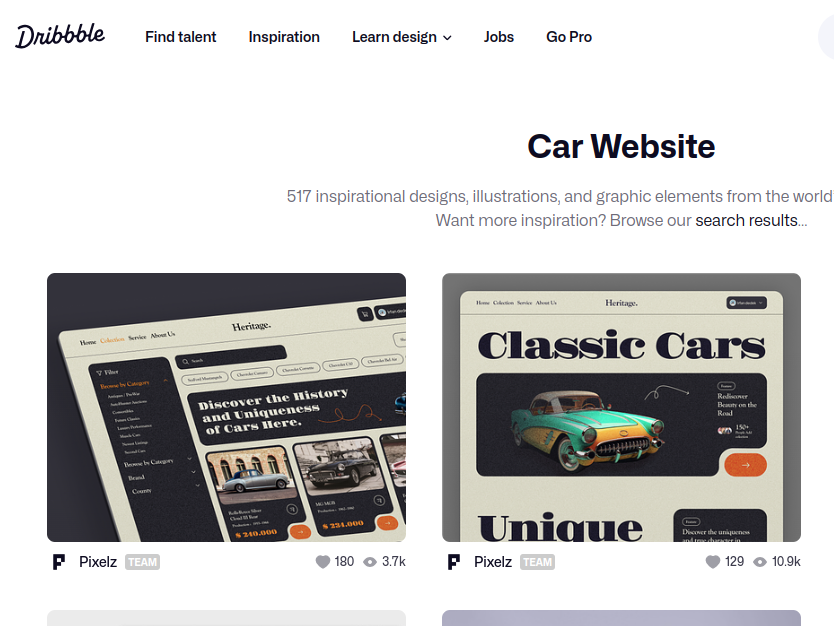menu-bar: (5, 8, 713, 95)
